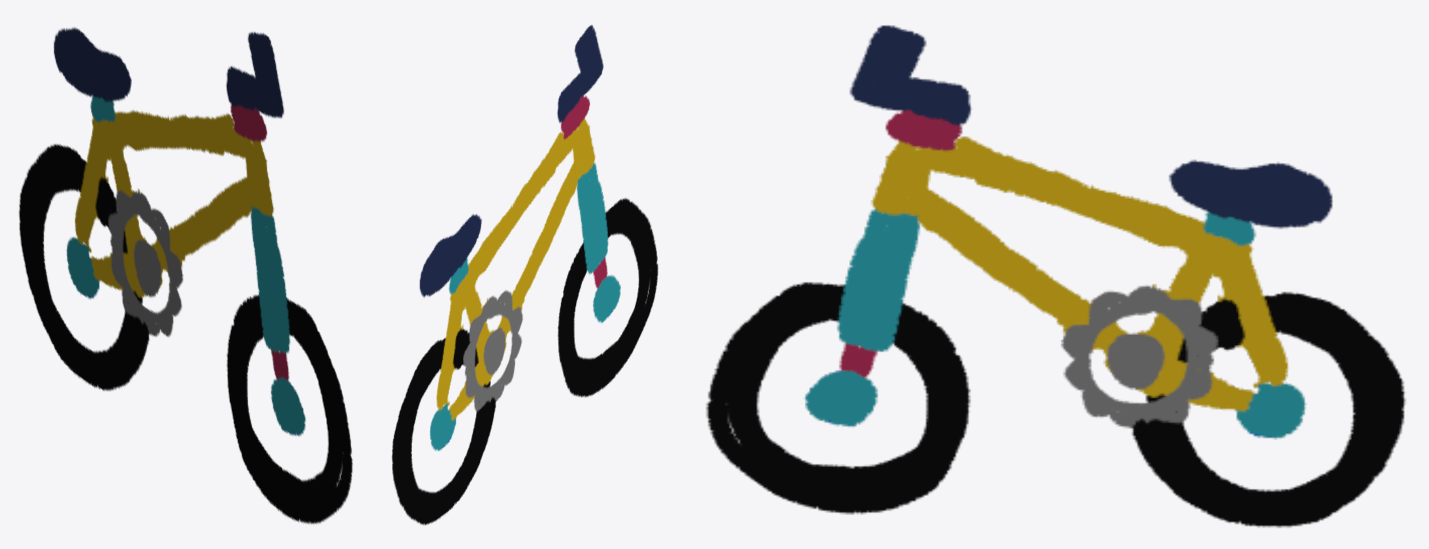
Rendered from mesh-stand1.glb.
3 renders of one model, left to right at view 1: azimuth 30°, elevation 25°; view 2: azimuth 150°, elevation 25°; view 3: azimuth 270°, elevation 25°, orthographic. The views are drawn at different scales.
Parts seen in each view (by area): view 1: s1.001; view 2: s1.001; view 3: s1.001.
Part boxes in pixels (left/top/right/bottom): s1.001: left=19, top=27, right=352, bottom=524; s1.001: left=392, top=25, right=658, bottom=525; s1.001: left=706, top=25, right=1405, bottom=527.
Bounding box in the file's own units: 0 × 1.33 × 1.67.
Materials: 1 (1 with a texture image).
